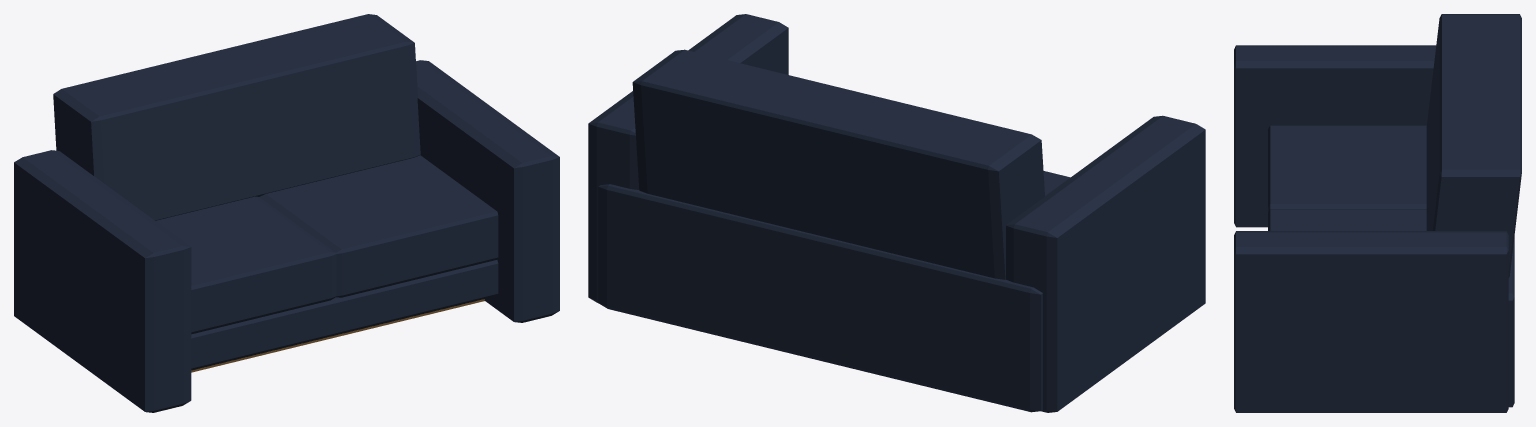
File: Sofa.fbx
3 views of the same model, side by side, from view 1: azimuth 30°, elevation 25°; view 2: azimuth 150°, elevation 25°; view 3: azimuth 270°, elevation 25° (orthographic). The views are drawn at different scales.
Visible parts, largest first — view 1: Frame, Pillow, CousionR, CusionL, Wood; view 2: Frame, Pillow; view 3: Frame, Pillow, CusionL, CousionR.
Boxes of the visible parts, x1=… form: Frame: x1=14, y1=60, x2=559, y2=412; Pillow: x1=53, y1=14, x2=420, y2=220; CousionR: x1=260, y1=155, x2=498, y2=297; CusionL: x1=156, y1=196, x2=336, y2=334; Wood: x1=191, y1=299, x2=484, y2=372; Frame: x1=588, y1=14, x2=1205, y2=412; Pillow: x1=632, y1=49, x2=1044, y2=279; Frame: x1=1234, y1=45, x2=1514, y2=412; Pillow: x1=1426, y1=14, x2=1521, y2=277; CusionL: x1=1268, y1=125, x2=1426, y2=212; CousionR: x1=1268, y1=209, x2=1426, y2=230.
Size of the model in its own units: 360 by 176 by 210.
